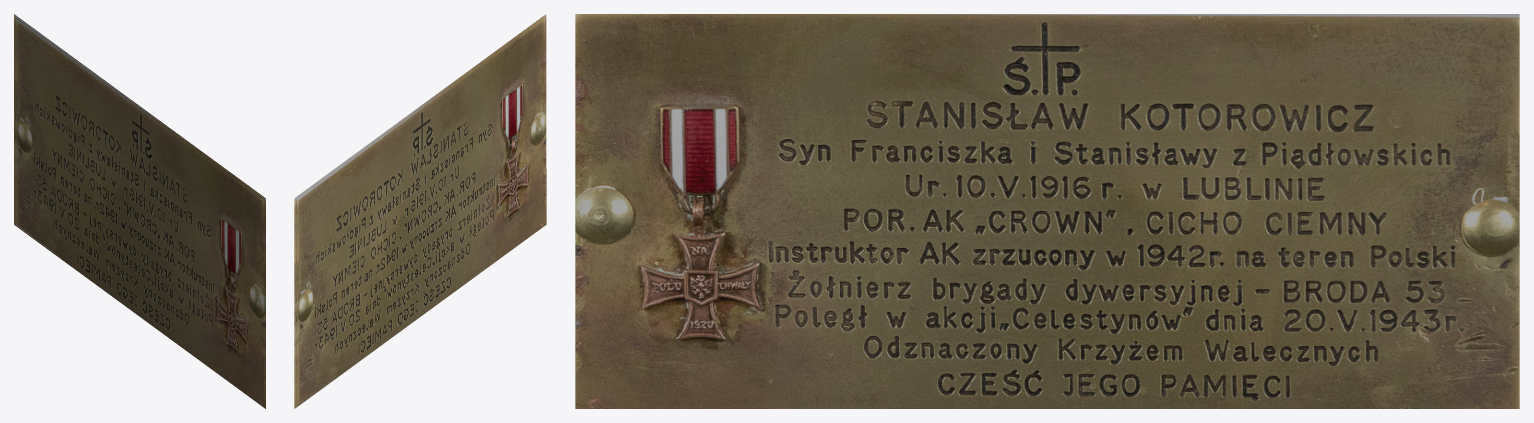
The model's file is 36. ŚP. STANISŁAW KOTOROWICZ.glb.
3 views of the same model, side by side, from view 1: azimuth 30°, elevation 25°; view 2: azimuth 150°, elevation 25°; view 3: azimuth 270°, elevation 25° (orthographic). The views are drawn at different scales.
Visible parts, largest first — view 1: Plane; view 2: Plane; view 3: Plane.
Part boxes in pixels (<box>): Plane: <box>14,14,265,408</box>; Plane: <box>294,14,546,408</box>; Plane: <box>575,14,1519,408</box>.
Size of the model in its own units: 0.0102 by 6 by 13.
1 material, 1 textured.
